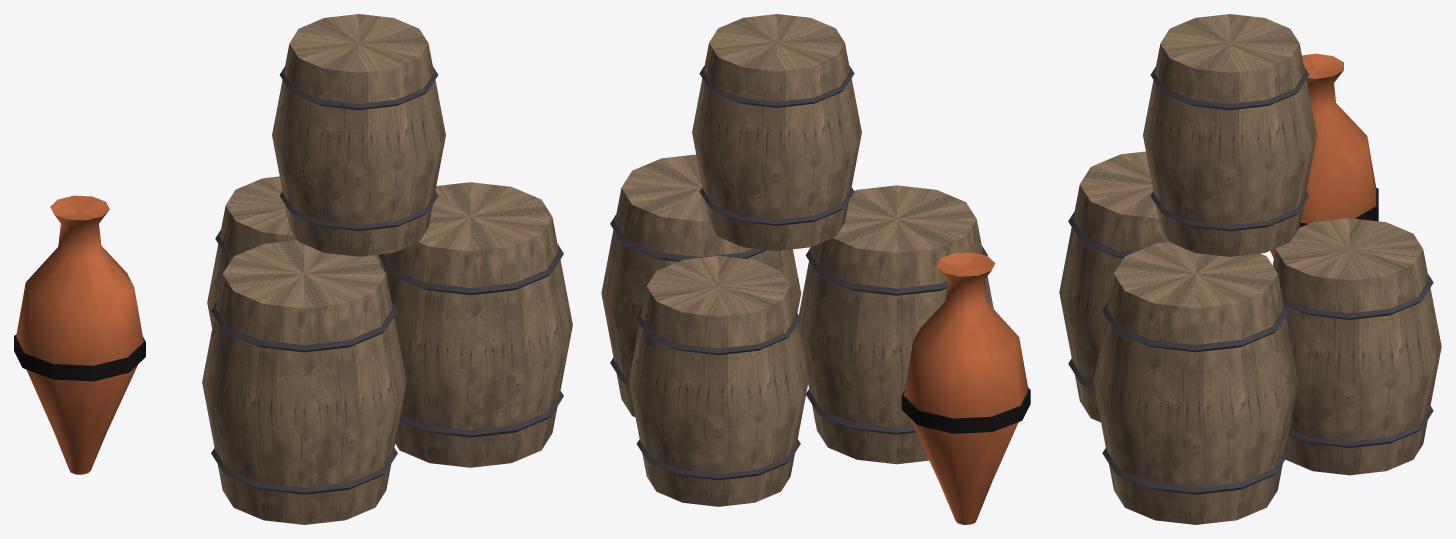
Rendered from decor_barrels_t1.glb.
The picture shows the model from 3 angles, left to right: view 1: azimuth 30°, elevation 25°; view 2: azimuth 150°, elevation 25°; view 3: azimuth 270°, elevation 25°; orthographic projection. The views are drawn at different scales.
Parts seen in each view (by area): view 1: wood, terracotta, iron, black_glaze; view 2: wood, terracotta, iron, black_glaze; view 3: wood, iron, terracotta.
Boxes of the visible parts, <box> form: wood: <box>202,14,572,524</box>; terracotta: <box>16,195,143,474</box>; iron: <box>211,67,563,494</box>; black_glaze: <box>14,334,145,381</box>; wood: <box>601,14,993,506</box>; terracotta: <box>904,252,1028,524</box>; iron: <box>610,65,987,480</box>; black_glaze: <box>901,387,1030,433</box>; wood: <box>1059,14,1441,524</box>; iron: <box>1068,67,1433,494</box>; terracotta: <box>1270,53,1376,258</box>.
Bounding box in the file's own units: 1.61 × 1.3 × 1.12.
Materials: 4 (3 with a texture image).
